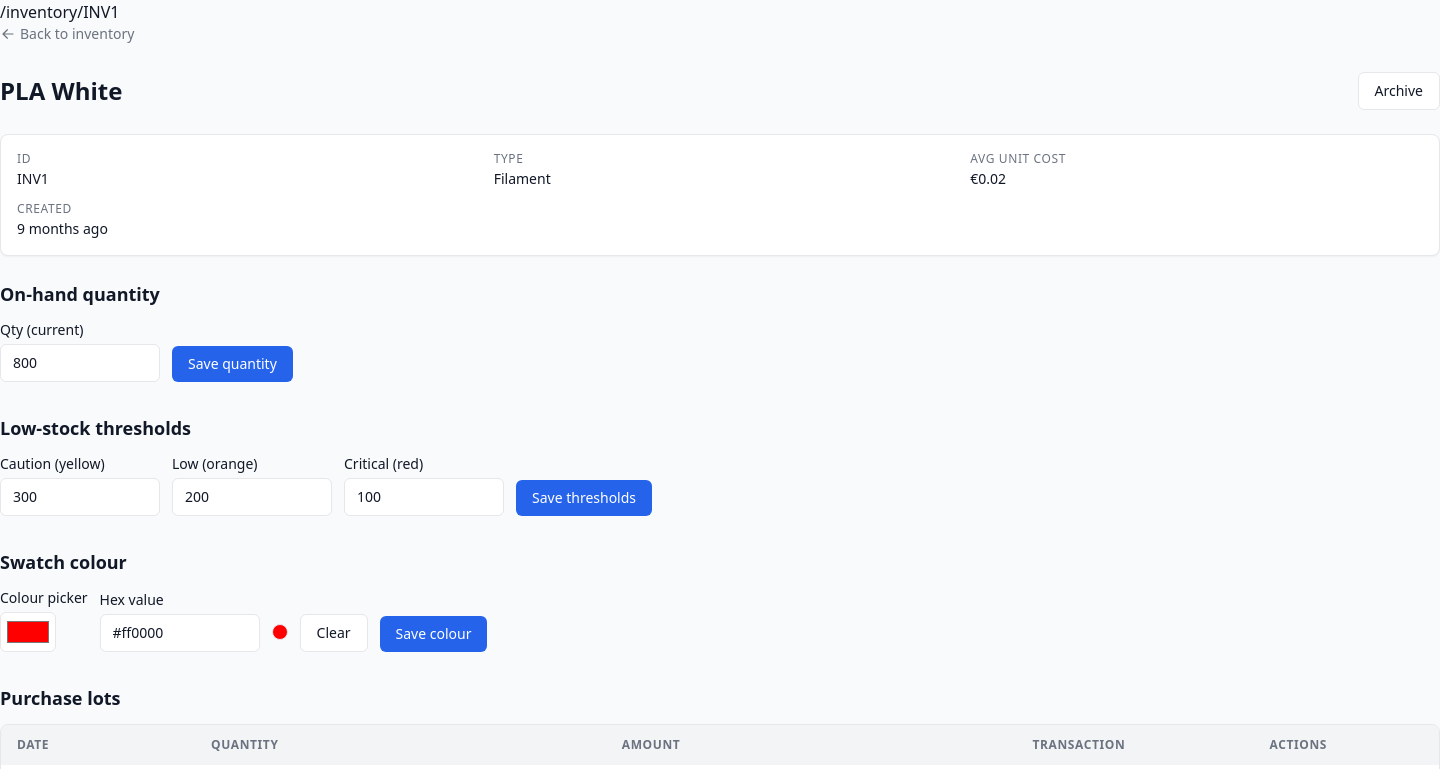
Test: InventoryDetailPage › ThresholdEditor › rejects a fractional tier
Replace the text in the number field with test id "inventory-detail-warn-red" with "2.5": (424, 497) [344, 478, 504, 516]
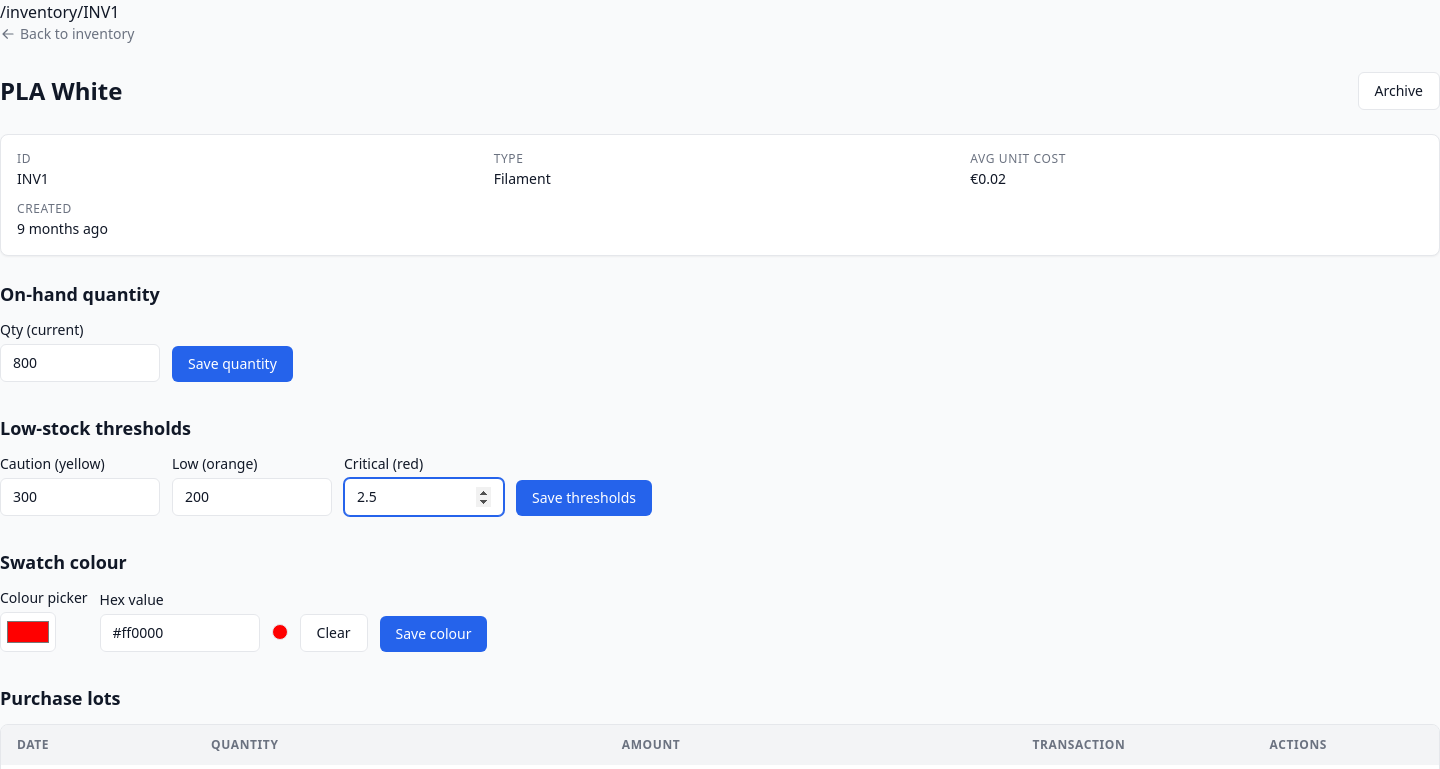
Click the button with test id "inventory-detail-save-thresholds": (584, 498) [516, 480, 652, 516]
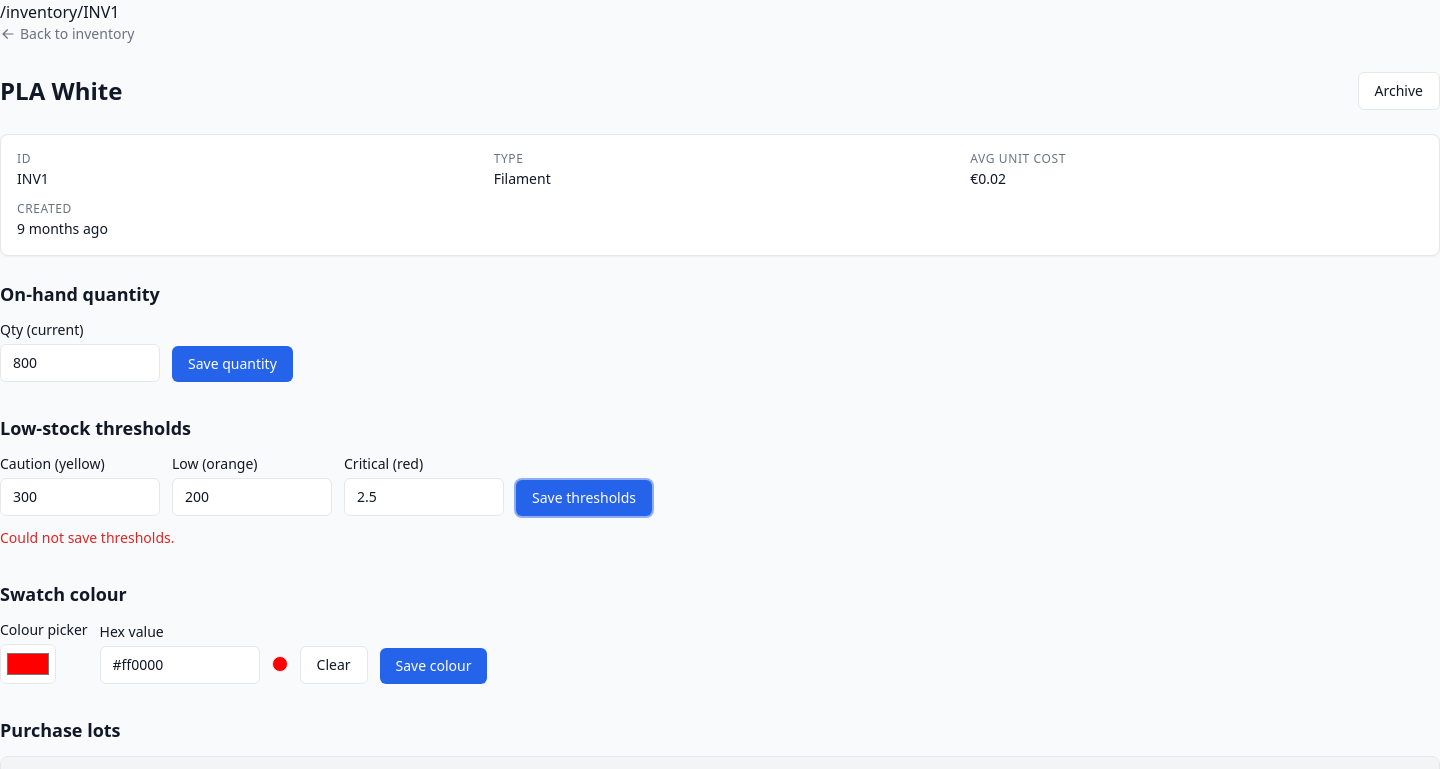
Result: the message reads "Could not save thresholds." at [0, 528, 174, 547]
